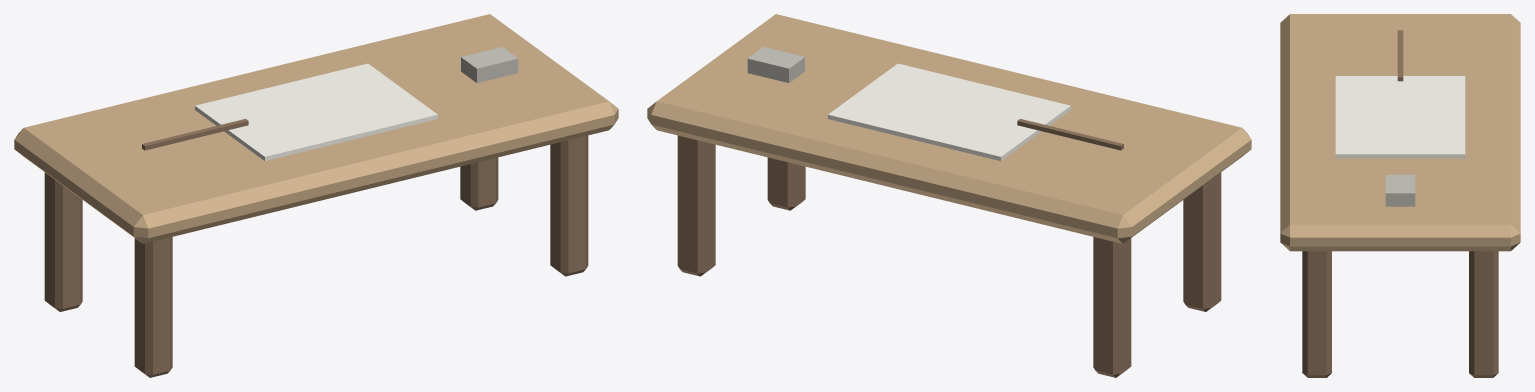
The model's file is feudal-japan-castle-town-calligraphy-desk-01855c63__26460.glb.
3 views of the same model, side by side, from view 1: azimuth 30°, elevation 25°; view 2: azimuth 150°, elevation 25°; view 3: azimuth 270°, elevation 25° (orthographic). The views are drawn at different scales.
Visible parts, largest first — view 1: calligraphy-desk; view 2: calligraphy-desk; view 3: calligraphy-desk.
Boxes of the visible parts, x1,y1,x2,y2 form: calligraphy-desk: (14, 14, 618, 377); calligraphy-desk: (647, 14, 1251, 377); calligraphy-desk: (1280, 14, 1520, 377).
Bounding box in the file's own units: 1.4 × 0.52 × 0.65.
